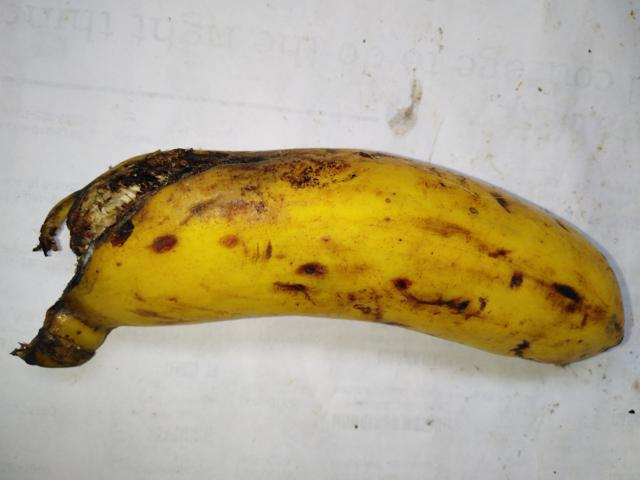ripe: (25, 121, 639, 413)
rotten: (18, 138, 223, 243)
